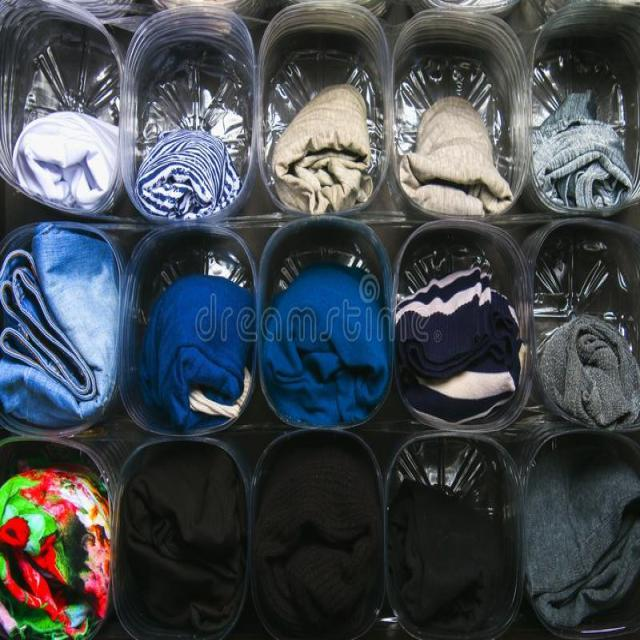clothes: (43, 78, 602, 609)
